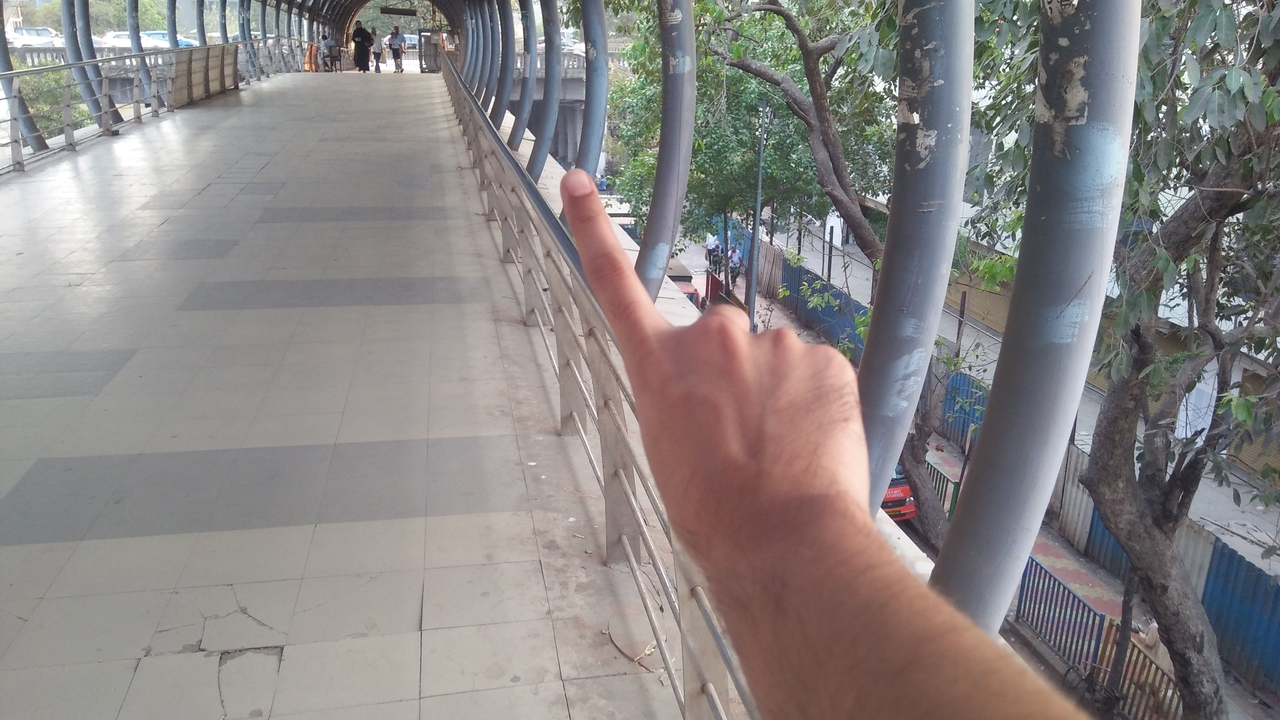fingertip: (552, 156, 600, 210)
